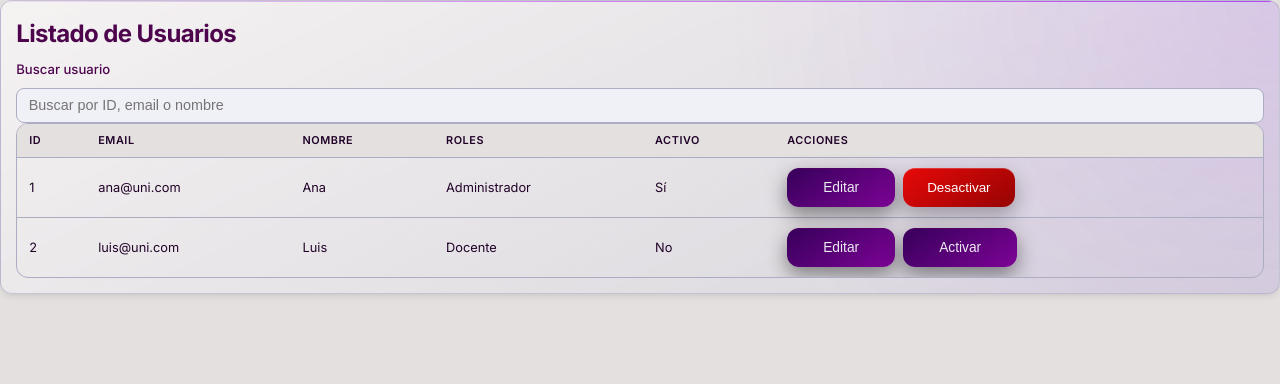
UsersPageFilter › permite editar en linea y guardar cambios
Click the button "Editar" in the row of "ana@uni.com": click(841, 188) [787,168,895,207]
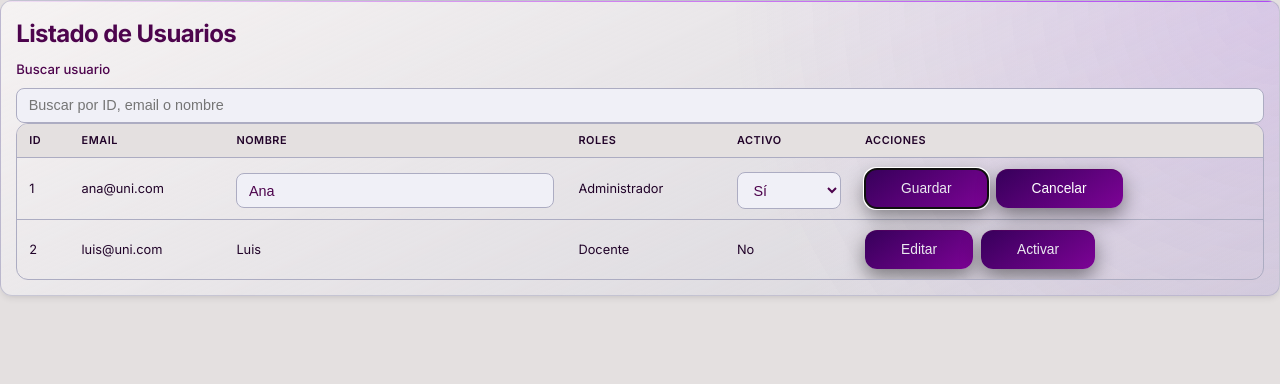
Replace the text in the field named "Nombre de ana@uni.com" with "Ana Maria": (395, 191) [236,173,554,208]
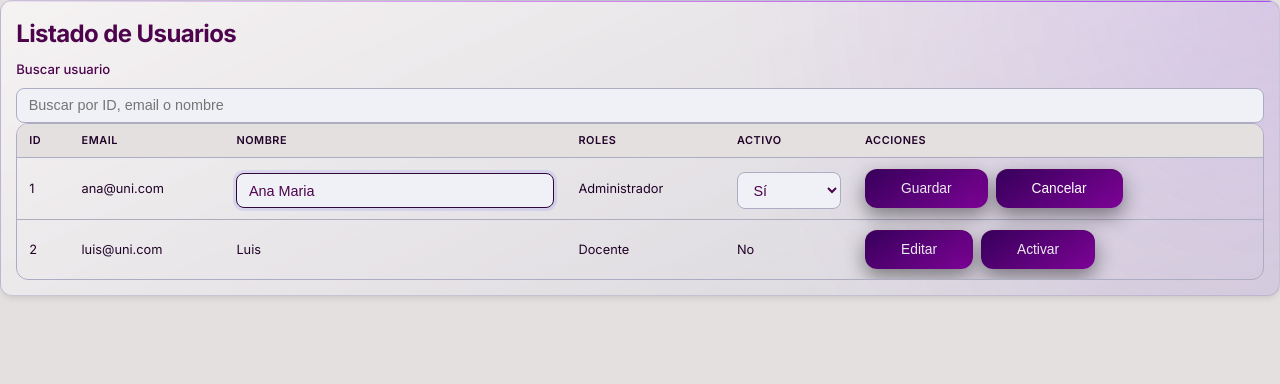
Select "No" in the dropdown named "Estado de ana@uni.com": (789, 191) [737,172,841,209]
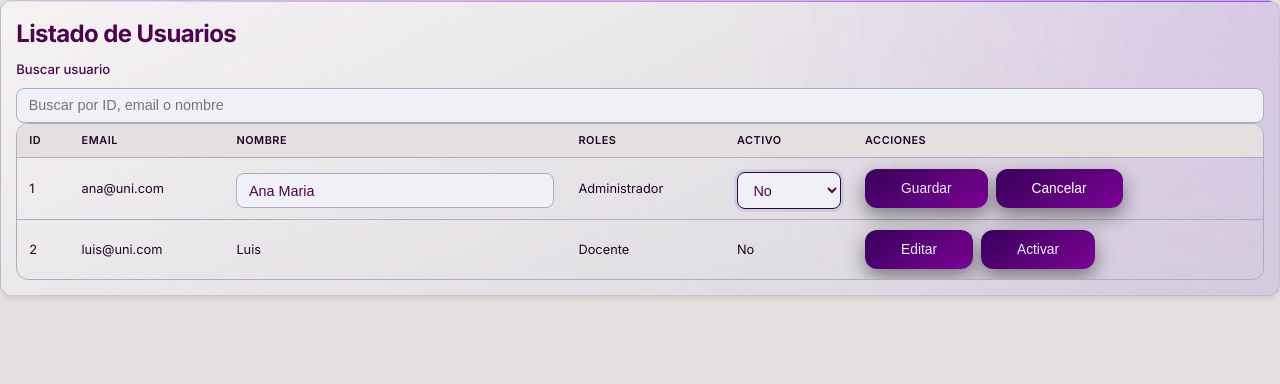
Click the button "Guardar": click(926, 189) [865,169,988,208]
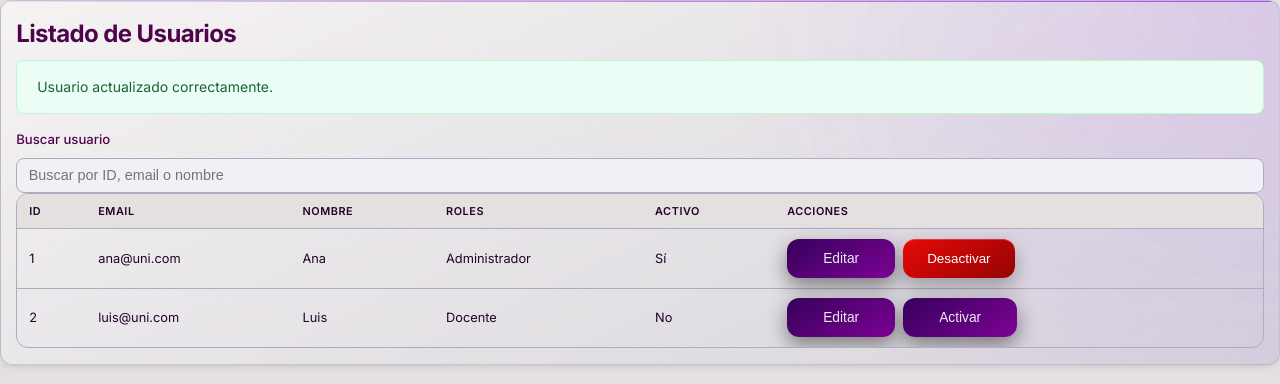
Check: the text "Usuario actualizado correctamente." is shown, box [16,60,1264,114]
